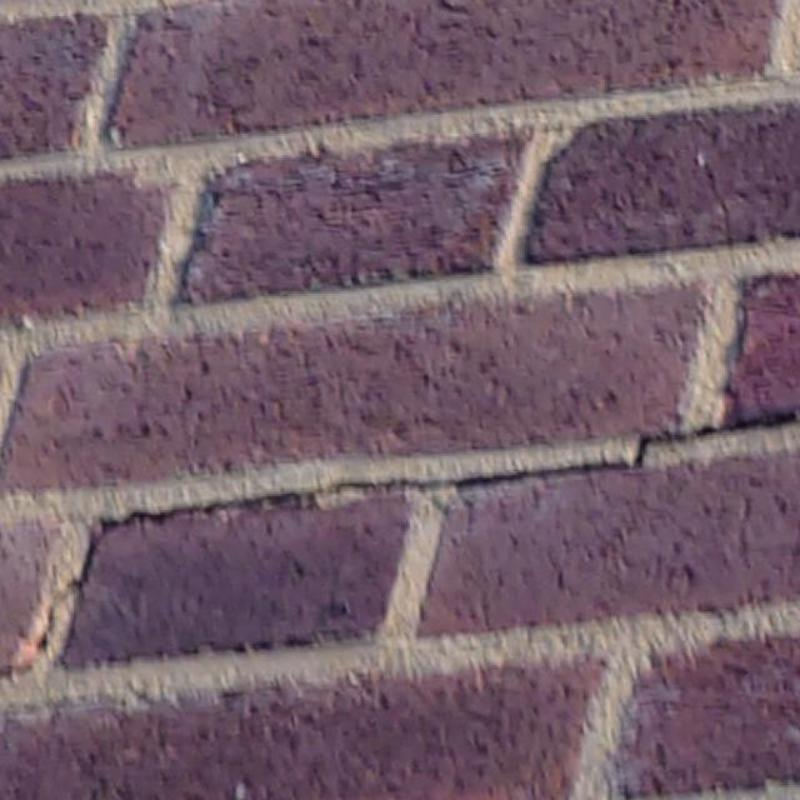pothole: (35, 493, 300, 654), (329, 412, 796, 493)
